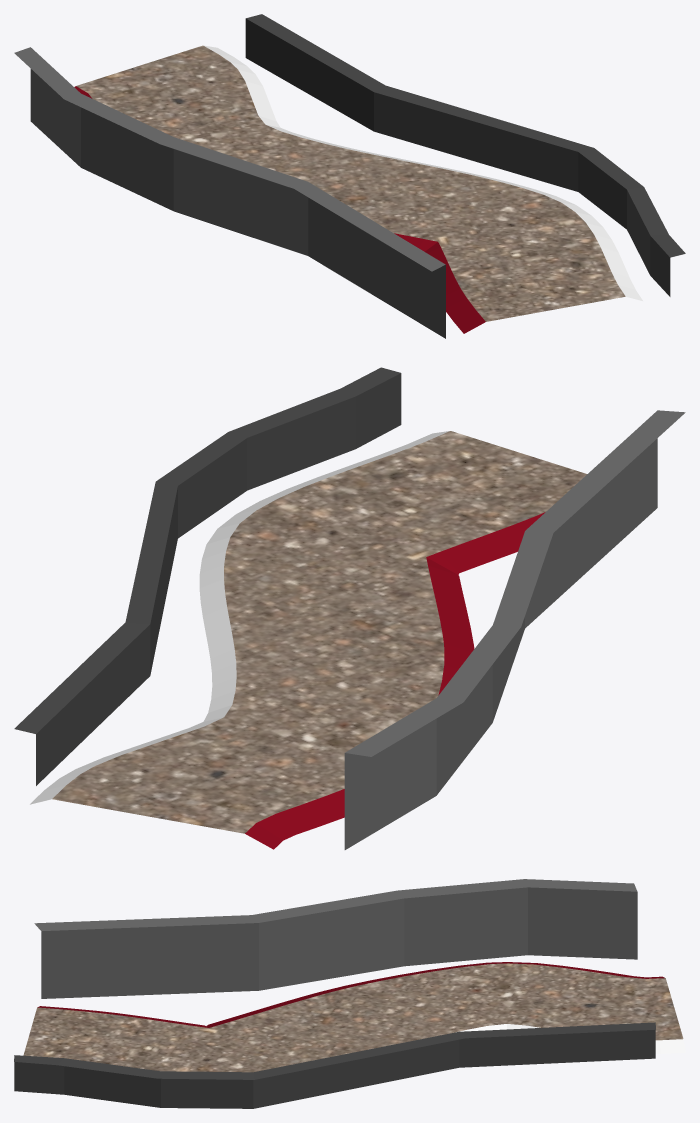
File: KartTrackS31.fbx
3 views of the same model, one above another, from view 1: azimuth 30°, elevation 25°; view 2: azimuth 150°, elevation 25°; view 3: azimuth 270°, elevation 25° (orthographic). The views are drawn at different scales.
Visible parts, largest first — view 1: PistaS31; view 2: PistaS31; view 3: PistaS31.
Boxes of the visible parts, x1,y1,x2,y2 form: PistaS31: [14, 14, 685, 338]; PistaS31: [14, 367, 685, 849]; PistaS31: [14, 879, 685, 1108].
Bounding box in the file's own units: 4029 × 749 × 6719.
